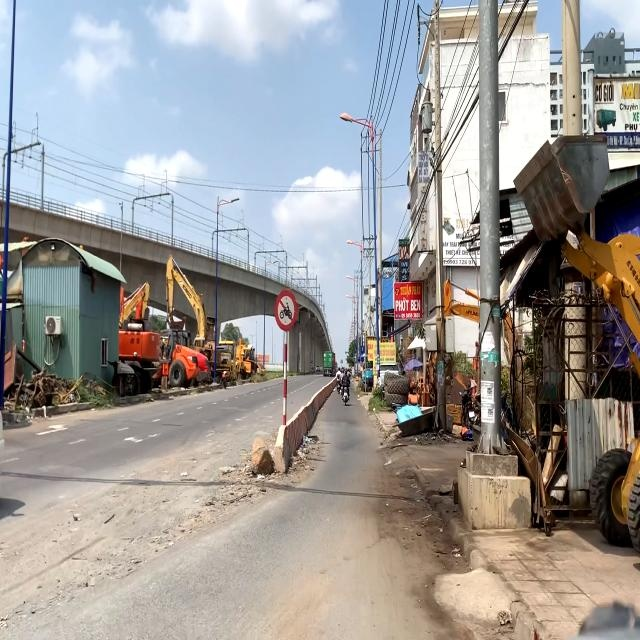bien_cam: (274, 288, 299, 333)
